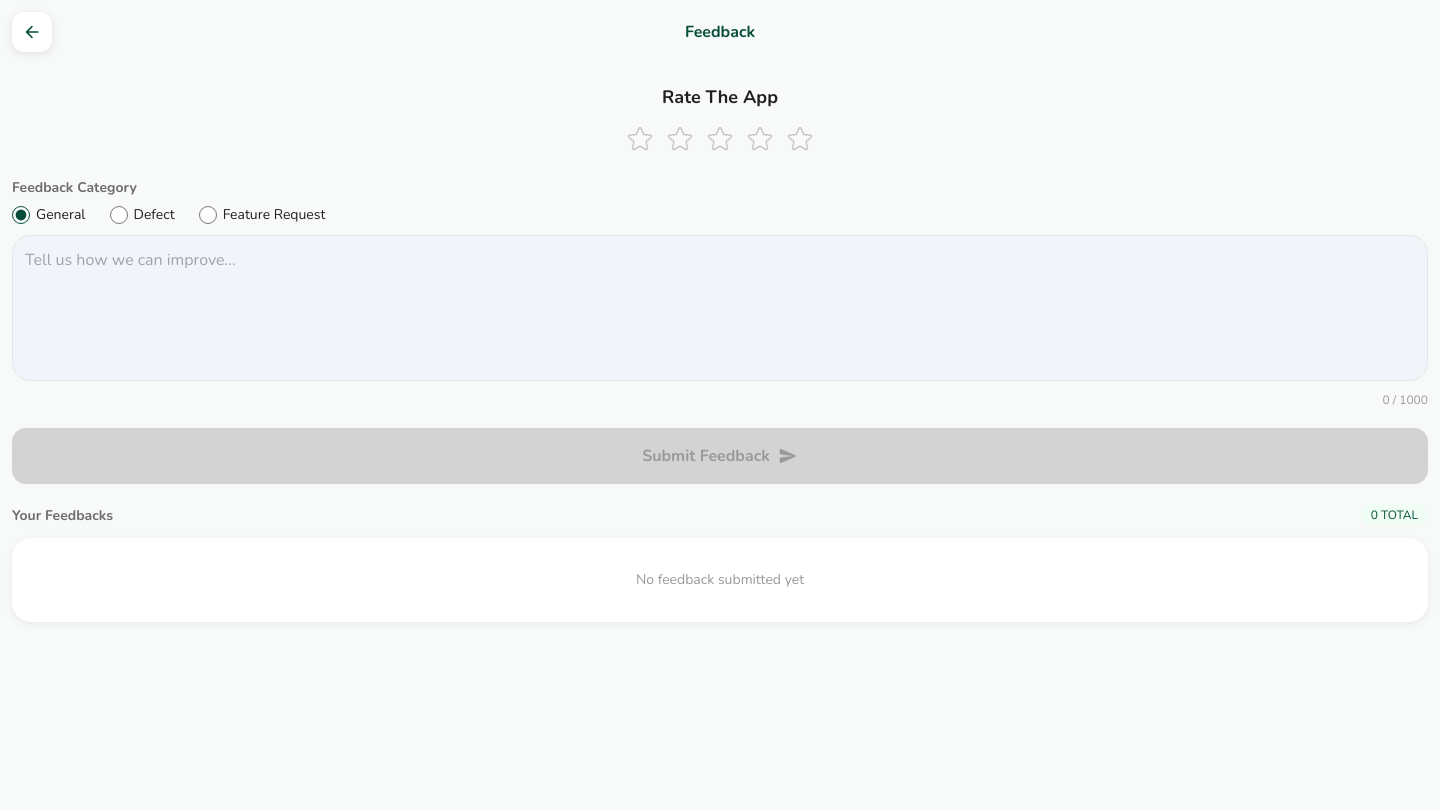
Feedback — submit gating › enables Submit from a star rating alone (no text required)
What coordinates should you click on to do the following:
click the button named "3 star"
I would click on:
 (720, 139)
Its box is top-left (702, 121), bottom-right (738, 157).
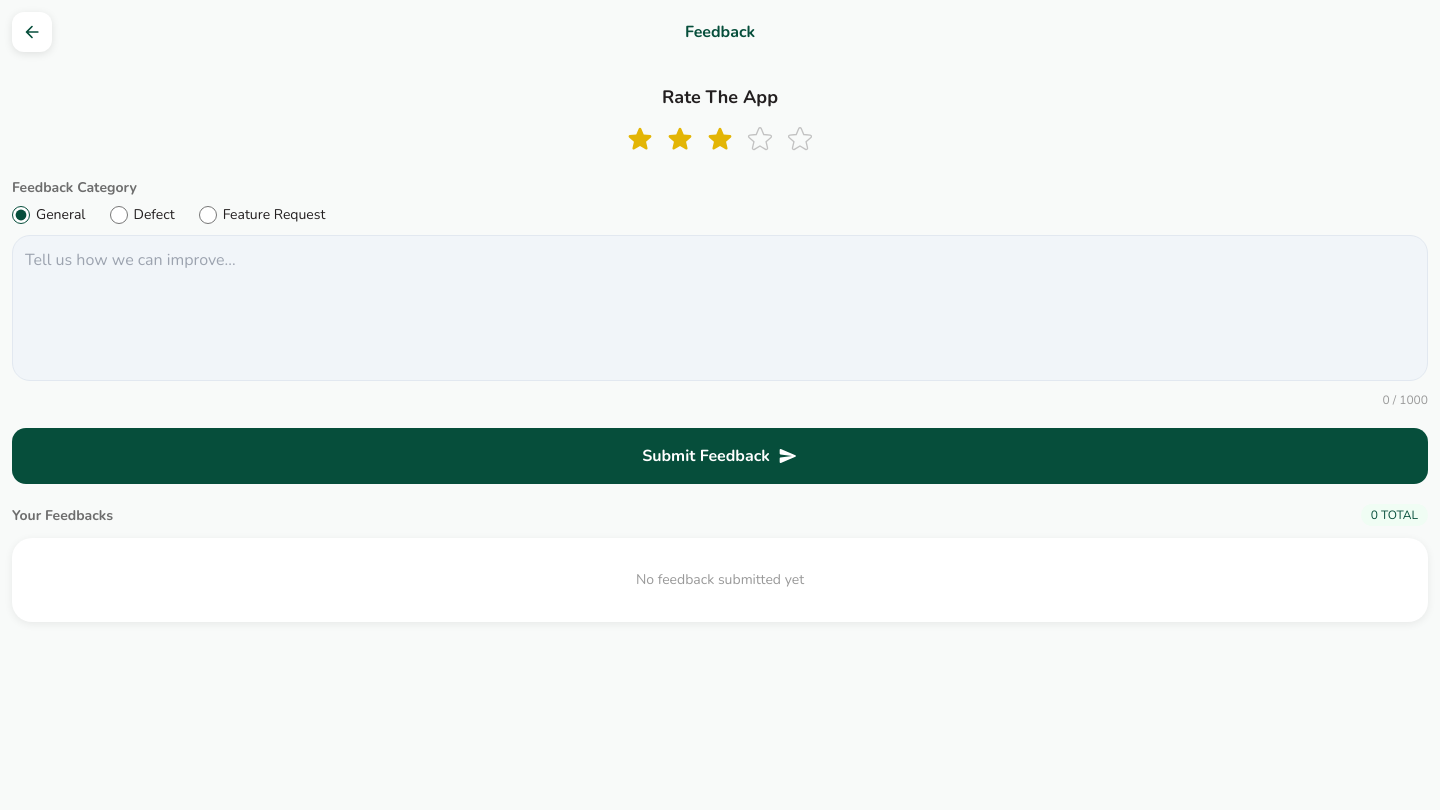
Now the button "Submit Feedback" is enabled, box top-left (12, 428), bottom-right (1428, 484)
